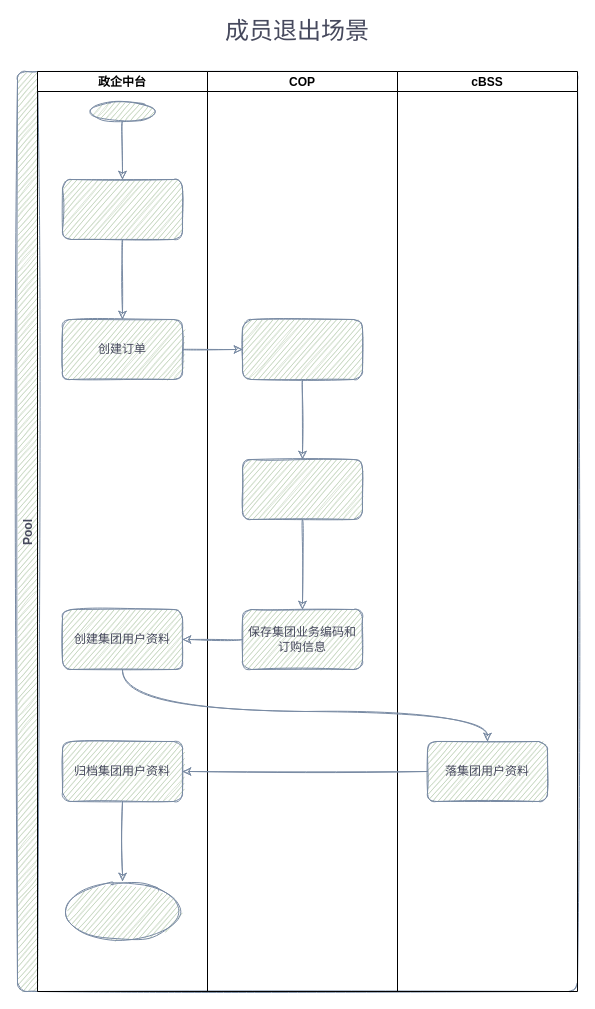
Some shapes in this 595 by 1009 pixel diagram are drawn without their labels. The centre of each missing label's shape, as x and y in pixels:
"业务受理" belongs at point 122,209.
"业务订购" belongs at point 302,349.
"创建客户和应用" belongs at point 302,489.
"开始" belongs at point 122,111.
"结束" belongs at point 122,911.
